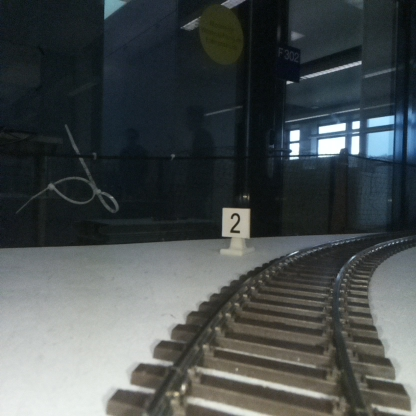white-stop-2: (222, 208, 249, 253)
